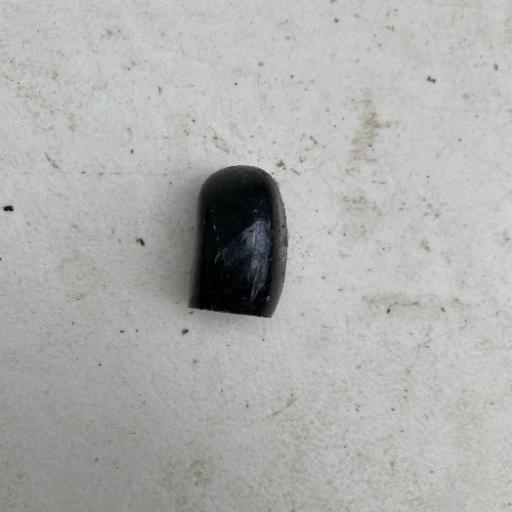Plastic: (186, 162, 290, 320)
